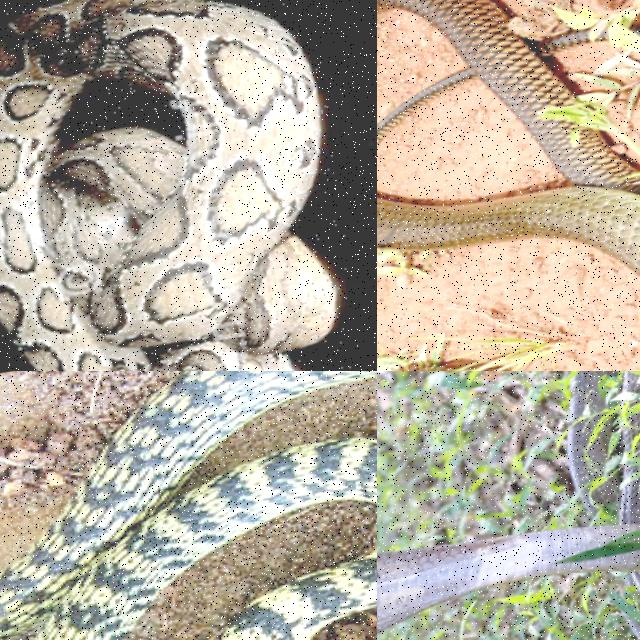Chrysopelea ornata: (0, 371, 376, 639)
Daboia siamensis: (0, 0, 335, 370)
Naja kaouthia: (377, 0, 639, 273)
Naja siamensis: (377, 479, 639, 632)
snake: (0, 0, 335, 370), (0, 371, 376, 639), (377, 0, 639, 273), (377, 479, 639, 632)
